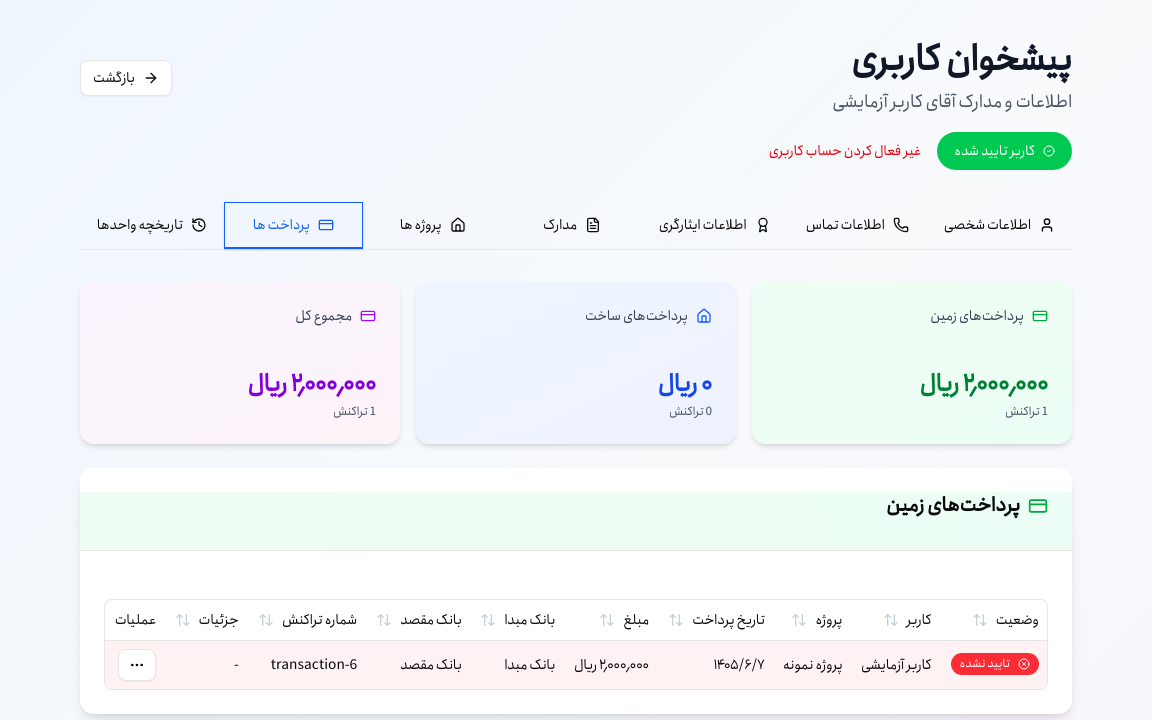
ProfilePage payments › shows the full transaction actions when an administrator views a user
Click the button named "عملیات".
click(137, 664)  # box [118,648,156,680]
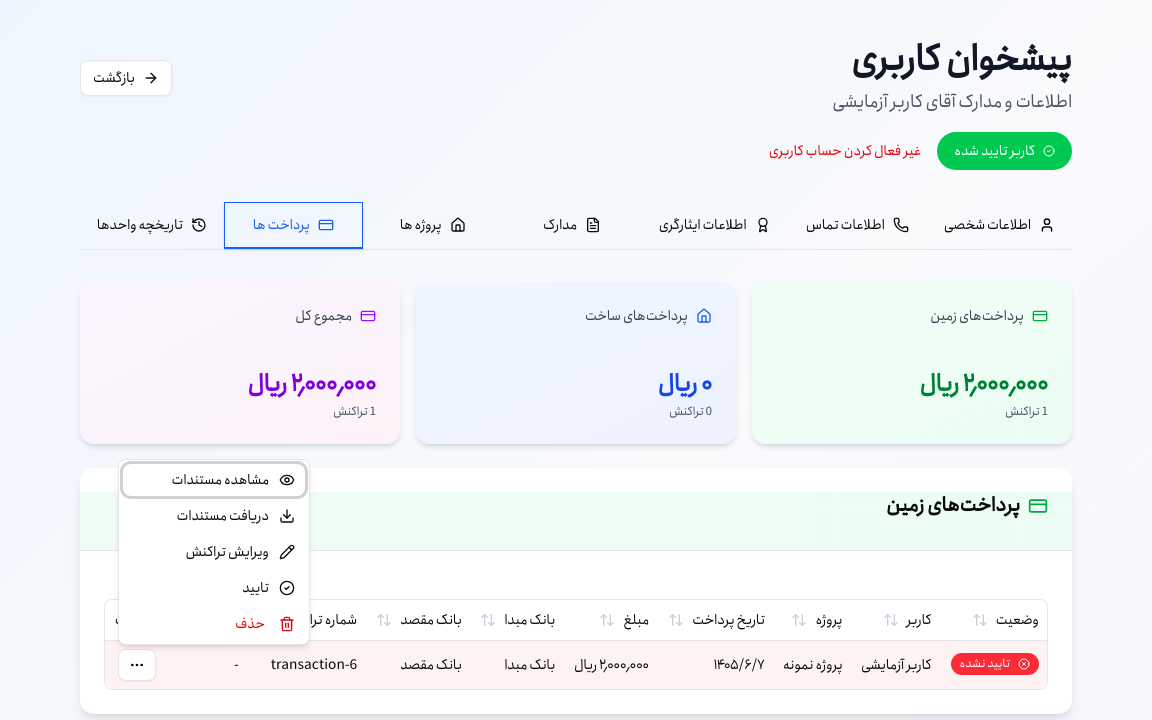
Check: the button "مشاهده مستندات" is shown, box [123,464,305,496]
Check: the button "دریافت مستندات" is shown, box [123,500,305,532]
Check: the button "تایید" is shown, box [123,572,305,604]
Click the button "ویرایش تراکنش".
click(214, 552)  # box [123,536,305,568]
(page scrolled)
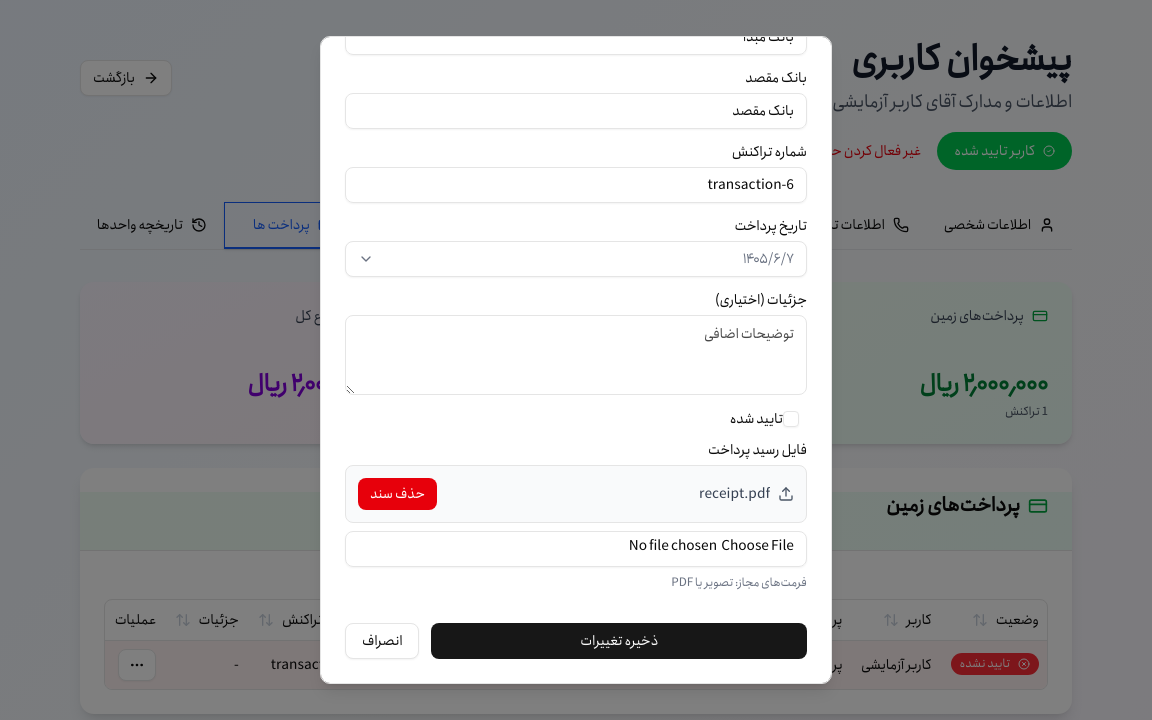
Check: the button "ذخیره تغییرات" is shown, box [432,623,807,659]
Check: the button "انصراف" is shown, box [345,623,420,659]
